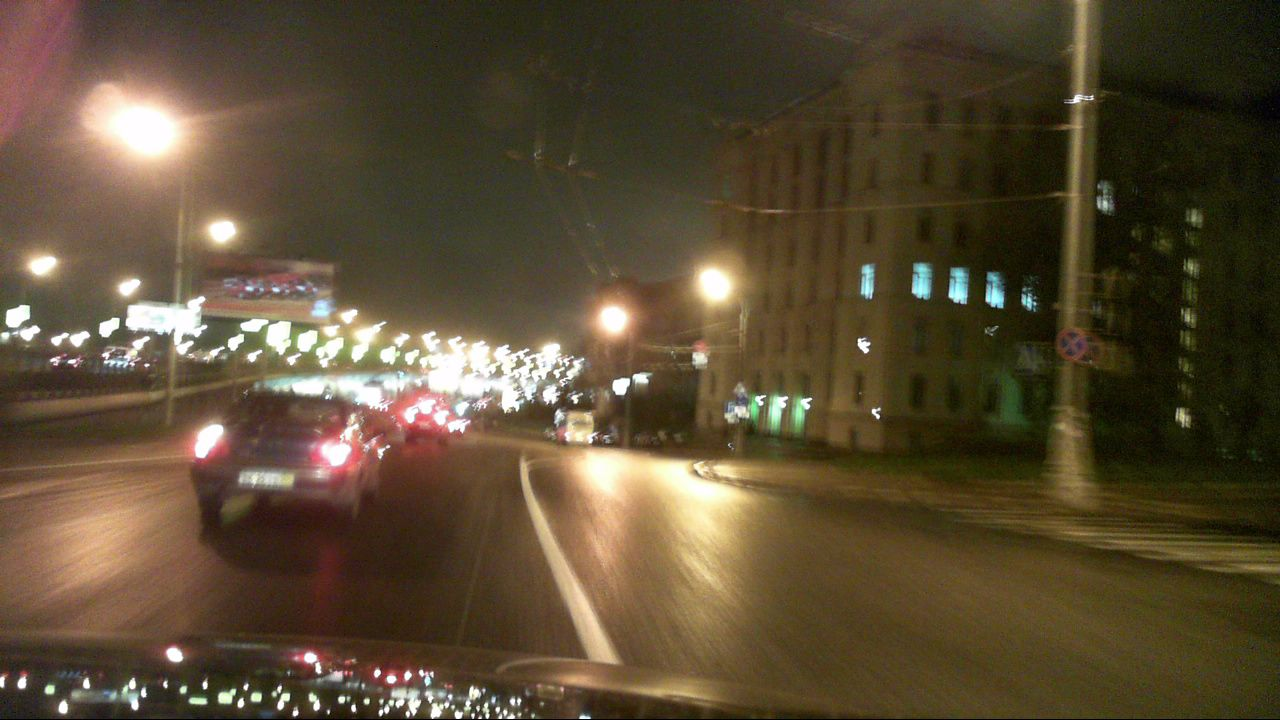No Parking: (1052, 328, 1087, 362)
